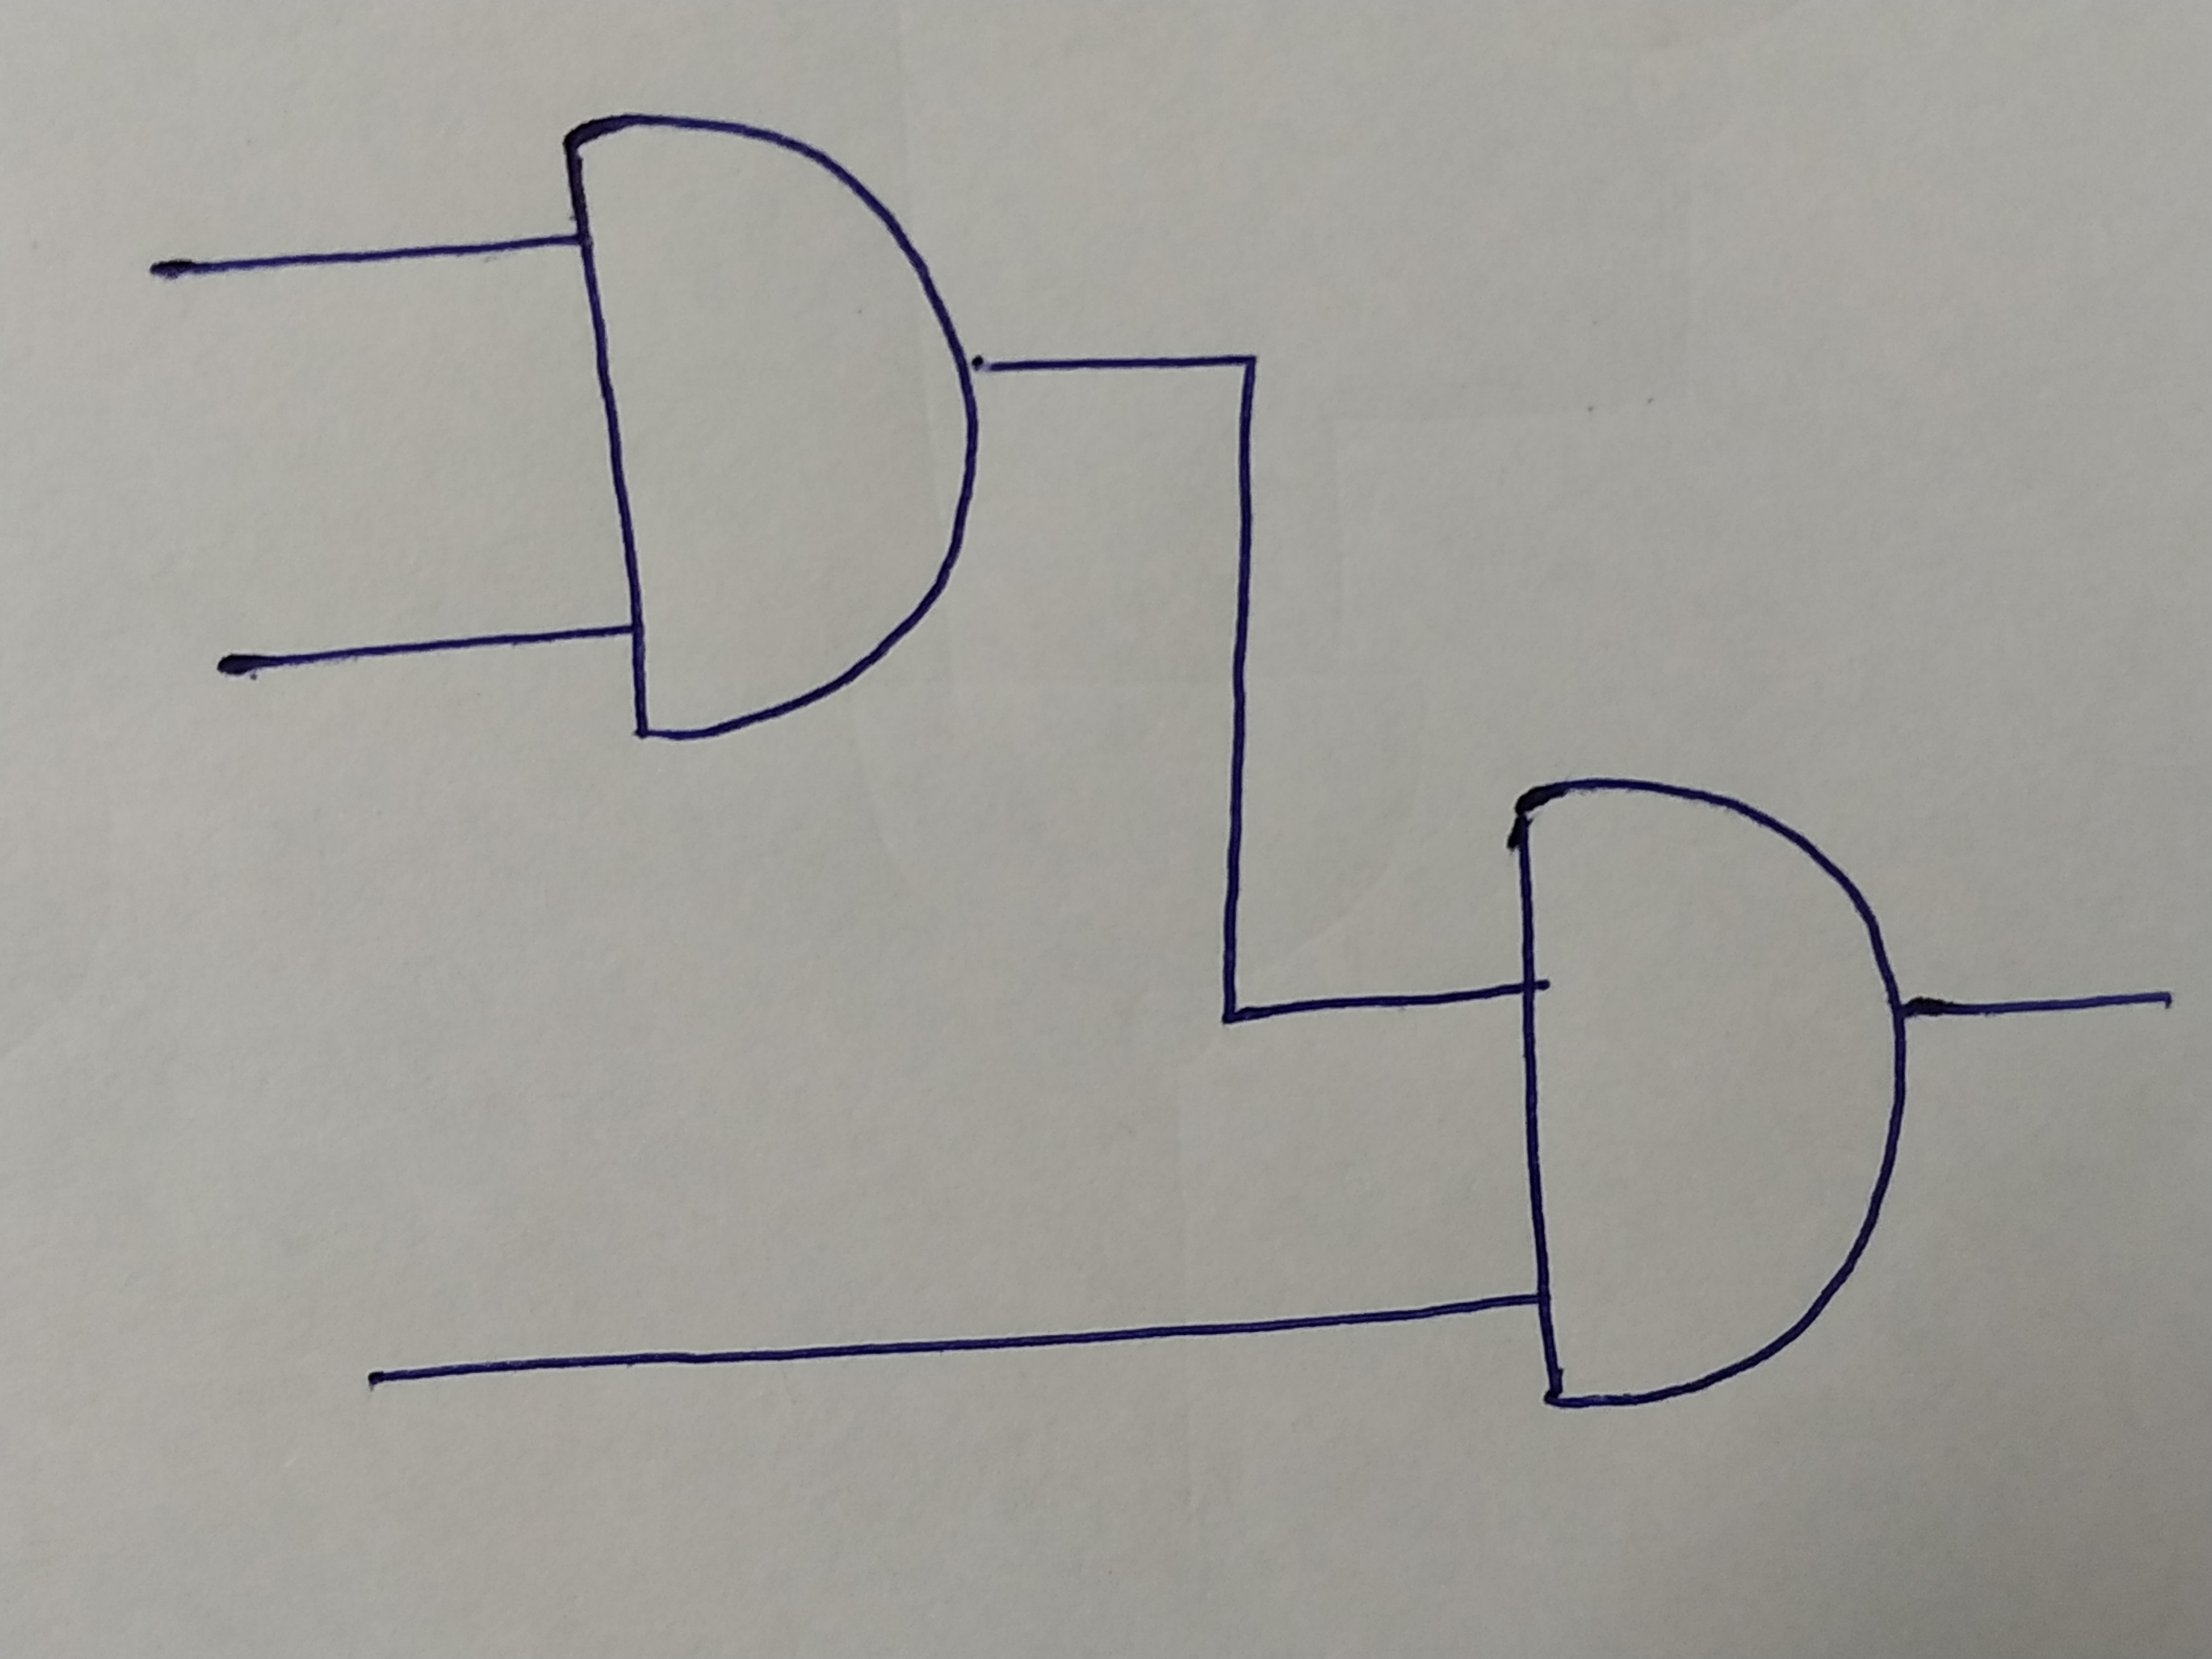and: (549, 120, 981, 744), (1519, 789, 1912, 1408)
